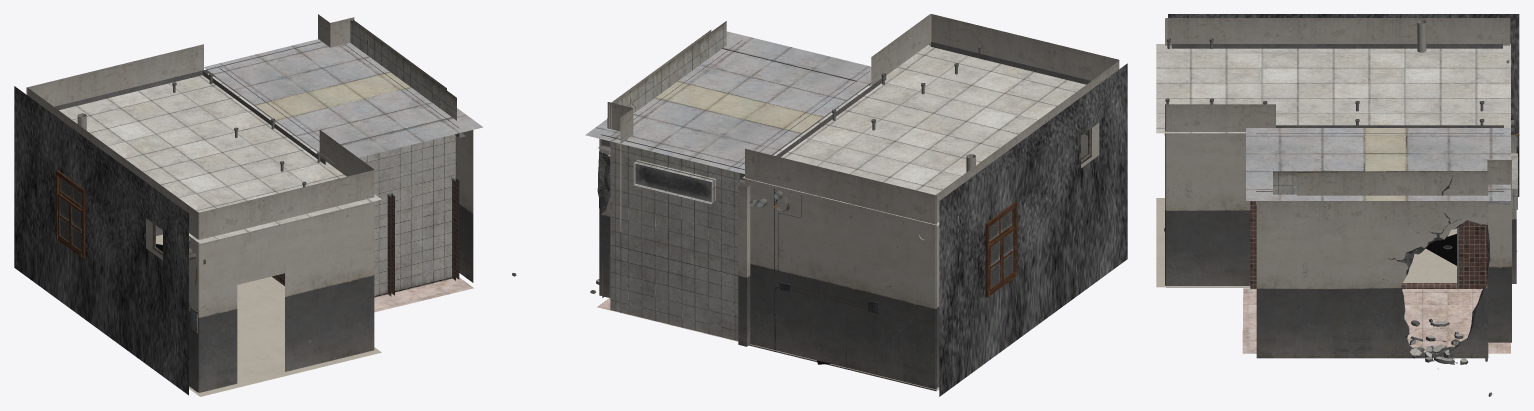
3 renders of one model, left to right at view 1: azimuth 30°, elevation 25°; view 2: azimuth 150°, elevation 25°; view 3: azimuth 270°, elevation 25°, orthographic. The views are drawn at different scales.
Visible parts, largest first — view 1: LOD_1_Group_0_Sub_9__st2_police2fLeftWall04, LOD_1_Group_0_Sub_13__Wall_M, LOD_1_Group_0_Sub_1__st2_police2fLeftCeiling04, LOD_1_Group_0_Sub_2__st2_police2fLeftCeiling05, LOD_1_Group_0_Sub_11__st2_police2fLeftWall05, LOD_1_Group_0_Sub_6__st2_police2fLeftFloor04, LOD_1_Group_0_Sub_10__st2_police2fLeftOther01, LOD_1_Group_0_Sub_12__st4_police2fLeftWall01, LOD_1_Group_0_Sub_7__st4_police2fLeftFloor01, LOD_1_Group_0_Sub_4__st2_police2fLeftWindow01, LOD_1_Group_0_Sub_3__st2_police2fLeftWindow01_Glass, LOD_1_Group_0_Sub_14__st2_police1fLeftPipeline01; view 2: LOD_1_Group_0_Sub_9__st2_police2fLeftWall04, LOD_1_Group_0_Sub_13__Wall_M, LOD_1_Group_0_Sub_1__st2_police2fLeftCeiling04, LOD_1_Group_0_Sub_11__st2_police2fLeftWall05, LOD_1_Group_0_Sub_2__st2_police2fLeftCeiling05, LOD_1_Group_0_Sub_10__st2_police2fLeftOther01, LOD_1_Group_0_Sub_5__st2_police2fLeftOther01_Glass, LOD_1_Group_0_Sub_4__st2_police2fLeftWindow01, LOD_1_Group_0_Sub_14__st2_police1fLeftPipeline01, LOD_1_Group_0_Sub_3__st2_police2fLeftWindow01_Glass; view 3: LOD_1_Group_0_Sub_9__st2_police2fLeftWall04, LOD_1_Group_0_Sub_1__st2_police2fLeftCeiling04, LOD_1_Group_0_Sub_2__st2_police2fLeftCeiling05, LOD_1_Group_0_Sub_7__st4_police2fLeftFloor01, LOD_1_Group_0_Sub_10__st2_police2fLeftOther01, LOD_1_Group_0_Sub_12__st4_police2fLeftWall01, LOD_1_Group_0_Sub_13__Wall_M, LOD_1_Group_0_Sub_6__st2_police2fLeftFloor04, LOD_1_Group_0_Sub_11__st2_police2fLeftWall05, LOD_1_Group_0_Sub_8__st2_FloorWater01_Mat, LOD_1_Group_0_Sub_14__st2_police1fLeftPipeline01, LOD_1_Group_0_Sub_15__st2_VinylPipeIronDuct_A.
Boxes of the visible parts, box(x1,y1,x2,y2) form: LOD_1_Group_0_Sub_9__st2_police2fLeftWall04: box(26, 14, 473, 392); LOD_1_Group_0_Sub_13__Wall_M: box(14, 86, 188, 395); LOD_1_Group_0_Sub_1__st2_police2fLeftCeiling04: box(59, 73, 381, 243); LOD_1_Group_0_Sub_2__st2_police2fLeftCeiling05: box(204, 39, 482, 162); LOD_1_Group_0_Sub_11__st2_police2fLeftWall05: box(350, 20, 456, 295); LOD_1_Group_0_Sub_6__st2_police2fLeftFloor04: box(156, 234, 381, 396); LOD_1_Group_0_Sub_10__st2_police2fLeftOther01: box(54, 41, 465, 297); LOD_1_Group_0_Sub_12__st4_police2fLeftWall01: box(272, 178, 459, 296); LOD_1_Group_0_Sub_7__st4_police2fLeftFloor01: box(374, 277, 473, 312); LOD_1_Group_0_Sub_4__st2_police2fLeftWindow01: box(55, 170, 85, 258); LOD_1_Group_0_Sub_3__st2_police2fLeftWindow01_Glass: box(59, 178, 81, 249); LOD_1_Group_0_Sub_14__st2_police1fLeftPipeline01: box(152, 73, 320, 285); LOD_1_Group_0_Sub_9__st2_police2fLeftWall04: box(599, 14, 1119, 391); LOD_1_Group_0_Sub_13__Wall_M: box(939, 63, 1127, 396); LOD_1_Group_0_Sub_1__st2_police2fLeftCeiling04: box(742, 44, 1085, 225); LOD_1_Group_0_Sub_11__st2_police2fLeftWall05: box(512, 21, 870, 340); LOD_1_Group_0_Sub_2__st2_police2fLeftCeiling05: box(585, 31, 886, 173); LOD_1_Group_0_Sub_10__st2_police2fLeftOther01: box(513, 40, 1090, 293); LOD_1_Group_0_Sub_5__st2_police2fLeftOther01_Glass: box(634, 160, 713, 202); LOD_1_Group_0_Sub_4__st2_police2fLeftWindow01: box(985, 201, 1017, 297); LOD_1_Group_0_Sub_14__st2_police1fLeftPipeline01: box(749, 46, 1091, 368); LOD_1_Group_0_Sub_3__st2_police2fLeftWindow01_Glass: box(989, 210, 1013, 287); LOD_1_Group_0_Sub_9__st2_police2fLeftWall04: box(1165, 18, 1516, 358); LOD_1_Group_0_Sub_1__st2_police2fLeftCeiling04: box(1156, 44, 1510, 133); LOD_1_Group_0_Sub_2__st2_police2fLeftCeiling05: box(1246, 128, 1510, 200); LOD_1_Group_0_Sub_7__st4_police2fLeftFloor01: box(1242, 288, 1510, 353); LOD_1_Group_0_Sub_10__st2_police2fLeftOther01: box(1164, 44, 1510, 396); LOD_1_Group_0_Sub_12__st4_police2fLeftWall01: box(1250, 201, 1487, 288); LOD_1_Group_0_Sub_13__Wall_M: box(1168, 14, 1519, 196); LOD_1_Group_0_Sub_6__st2_police2fLeftFloor04: box(1156, 198, 1456, 287); LOD_1_Group_0_Sub_11__st2_police2fLeftWall05: box(1273, 153, 1517, 396); LOD_1_Group_0_Sub_8__st2_FloorWater01_Mat: box(1426, 234, 1456, 265); LOD_1_Group_0_Sub_14__st2_police1fLeftPipeline01: box(1165, 38, 1519, 148); LOD_1_Group_0_Sub_15__st2_VinylPipeIronDuct_A: box(1164, 20, 1511, 231).
Size of the model in its own units: 9.62 by 4.19 by 7.27.
